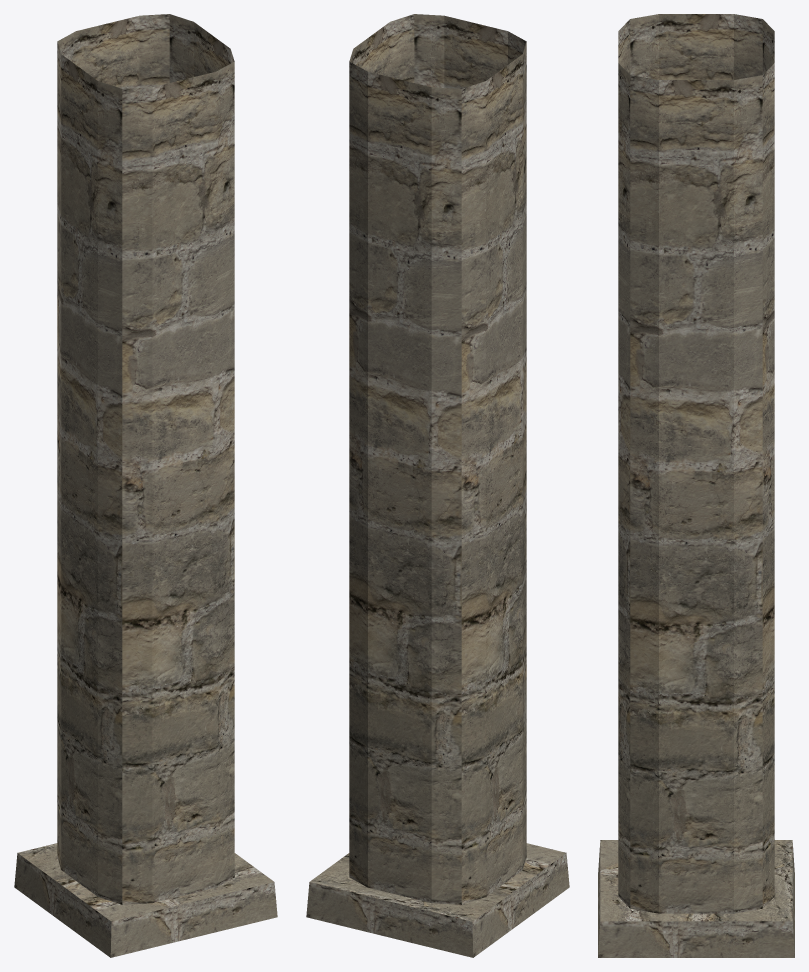
File: Pillar.fbx
3 renders of one model, left to right at view 1: azimuth 30°, elevation 25°; view 2: azimuth 150°, elevation 25°; view 3: azimuth 270°, elevation 25°, orthographic. The views are drawn at different scales.
Parts seen in each view (by area): view 1: Pillar; view 2: Pillar; view 3: Pillar.
Part boxes in pixels (x1=…): Pillar: x1=14, y1=14, x2=277, y2=957; Pillar: x1=306, y1=14, x2=569, y2=957; Pillar: x1=598, y1=14, x2=794, y2=957.
Size of the model in its own units: 2 by 9.74 by 2.
